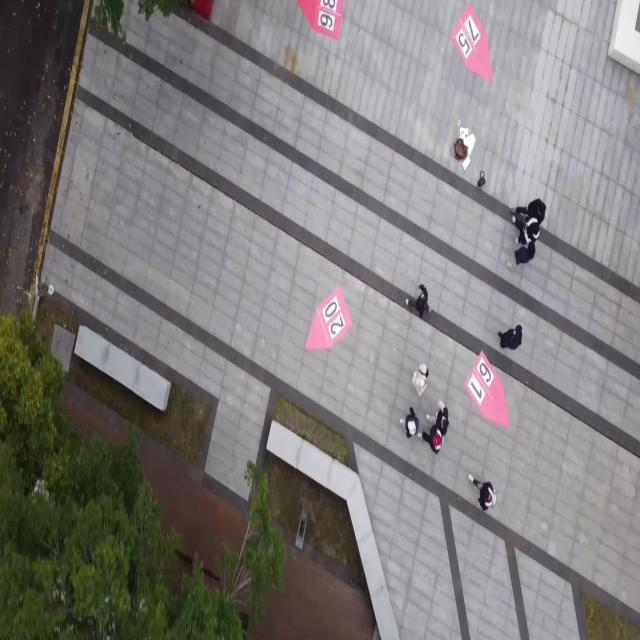-sign-: (464, 350, 510, 430), (450, 3, 493, 84), (304, 284, 353, 352), (297, 1, 347, 43)
